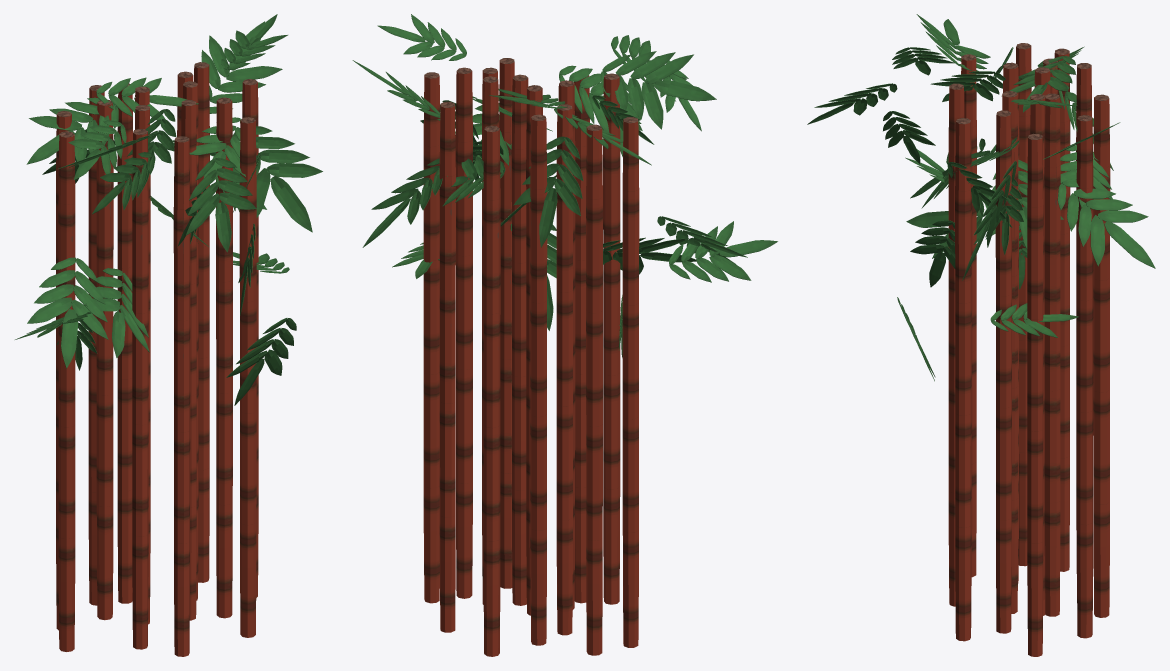
File: Bambus_rot.fbx
The picture shows the model from 3 angles, left to right: view 1: azimuth 30°, elevation 25°; view 2: azimuth 150°, elevation 25°; view 3: azimuth 270°, elevation 25°; orthographic projection.
Visible parts, largest first — view 1: Bambusblätter.017; view 2: Bambusblätter.017; view 3: Bambusblätter.017.
Boxes of the visible parts, x1,y1,x2,y2 form: Bambusblätter.017: [15, 14, 322, 656]; Bambusblätter.017: [352, 14, 777, 656]; Bambusblätter.017: [807, 14, 1155, 656].
Bounding box in the file's own units: 341 × 575 × 318.
